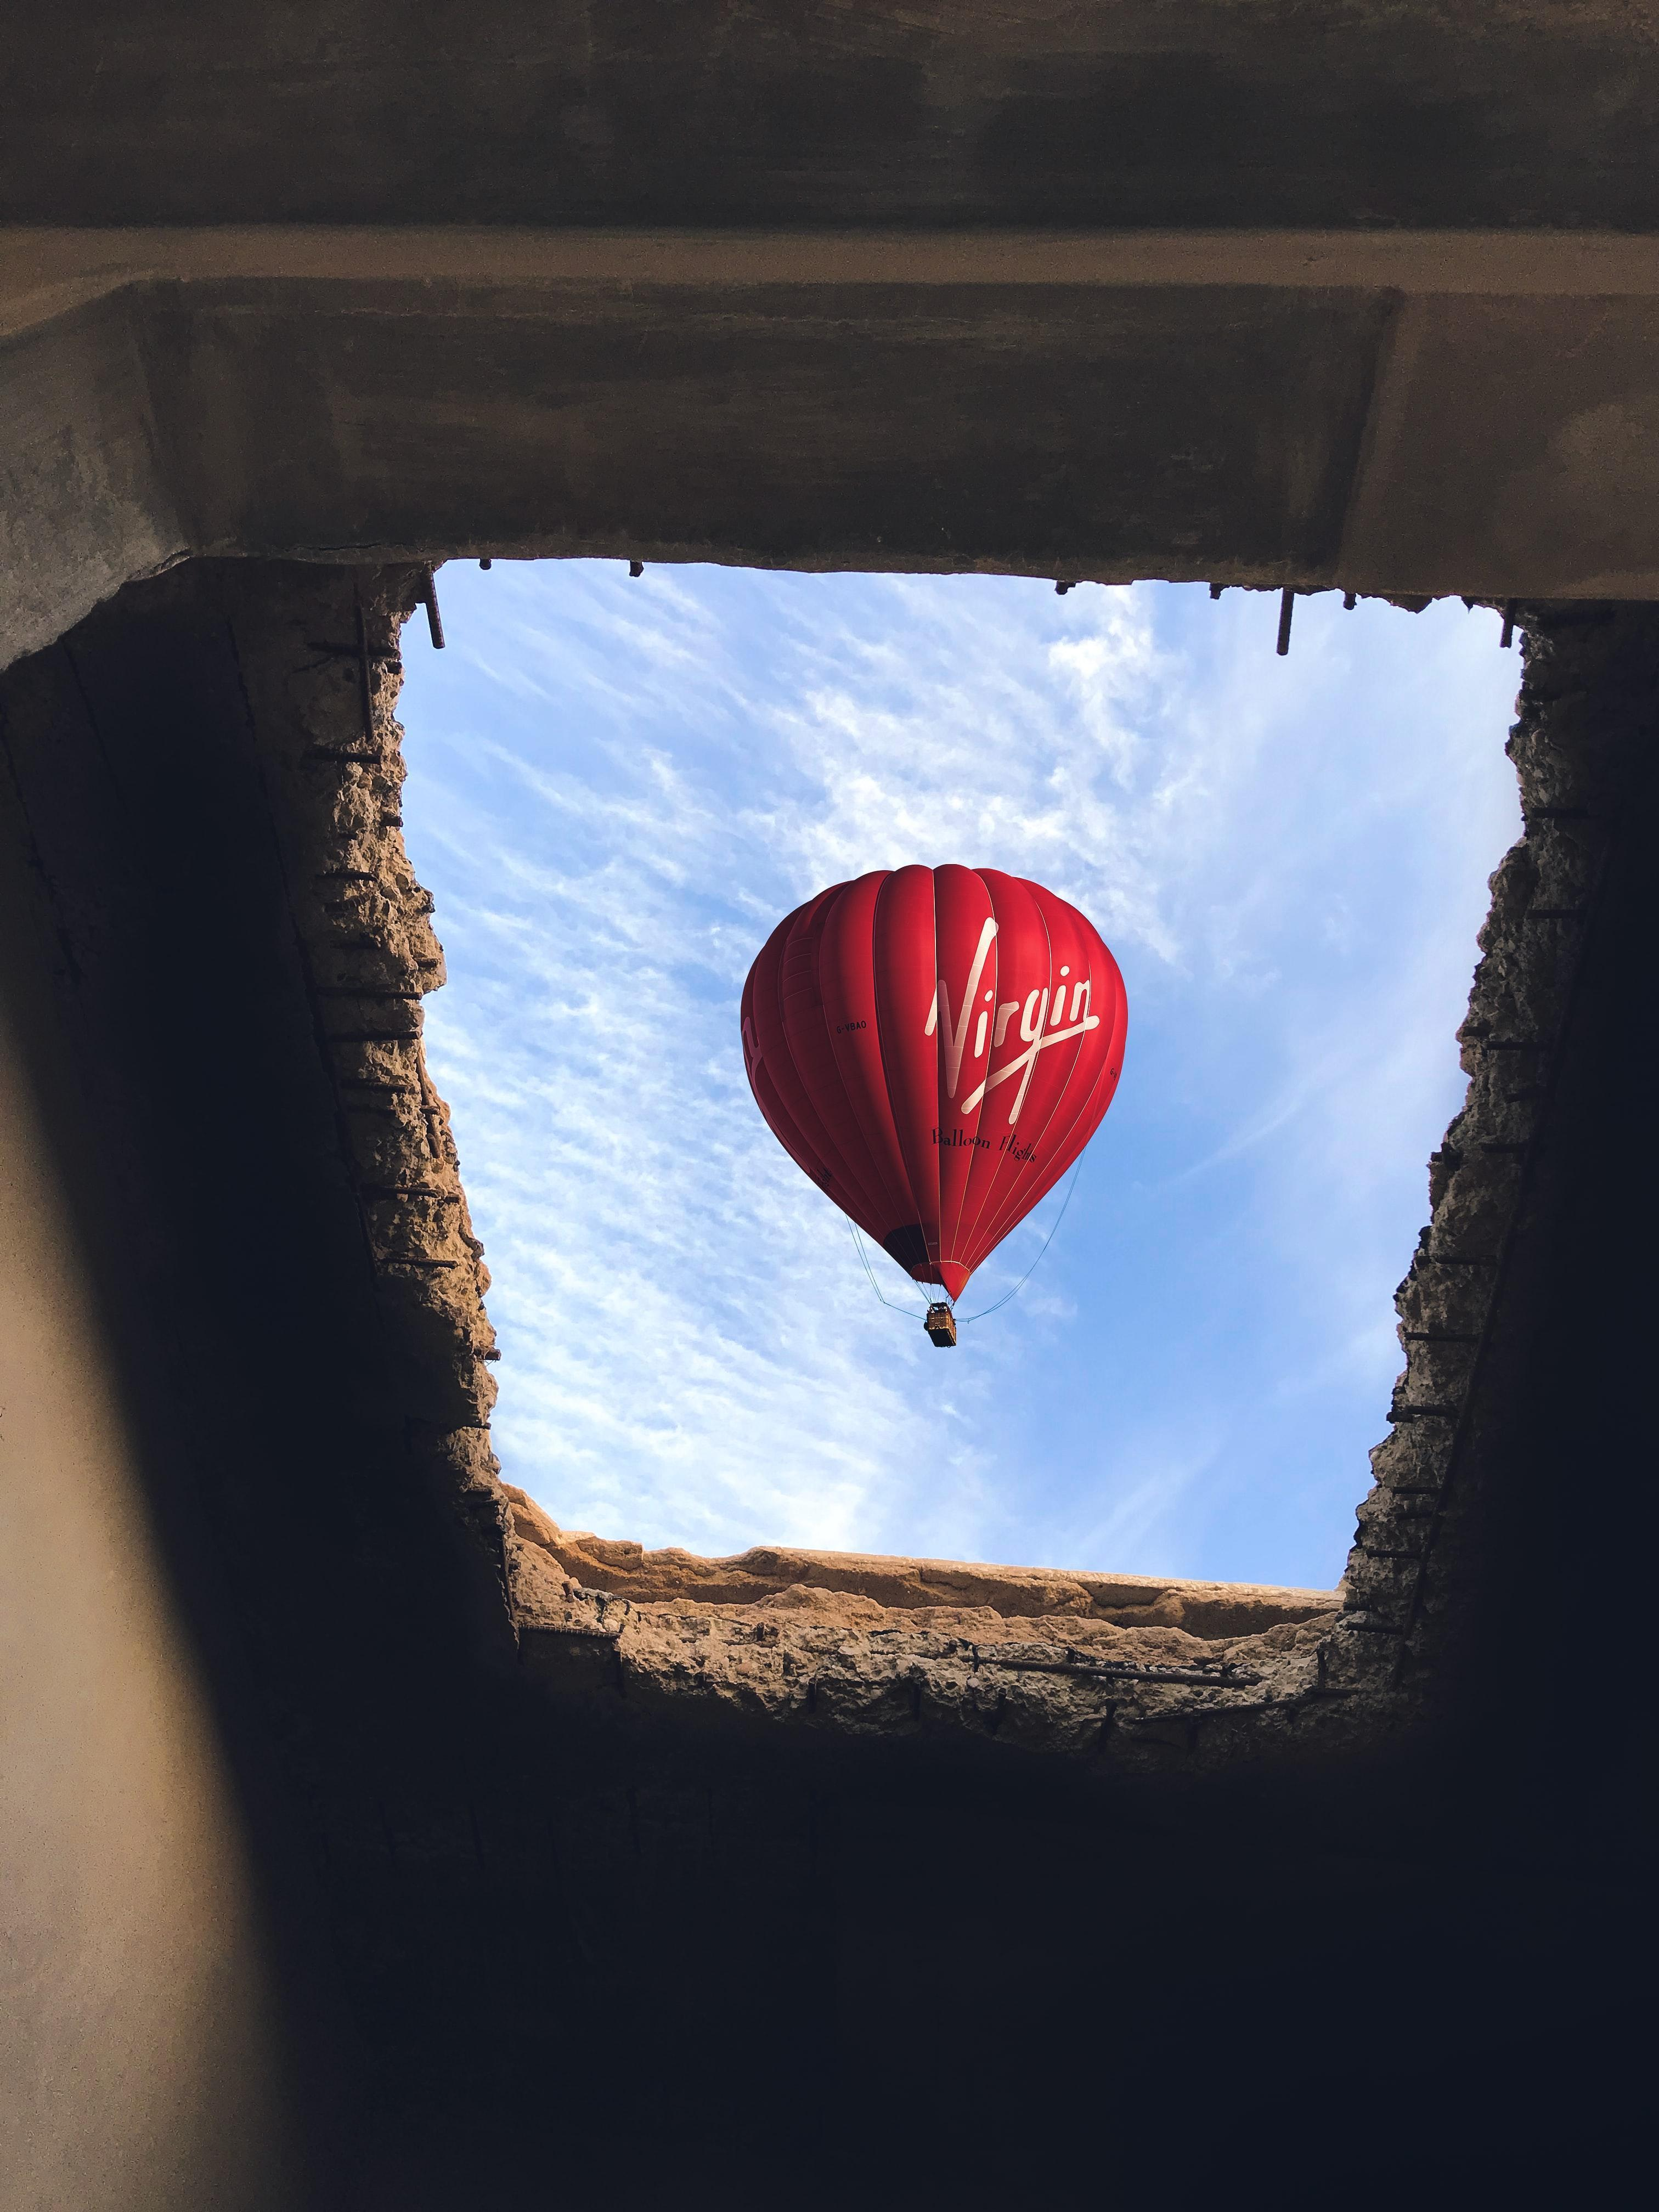hot air ballon: (737, 871, 1127, 1346)
